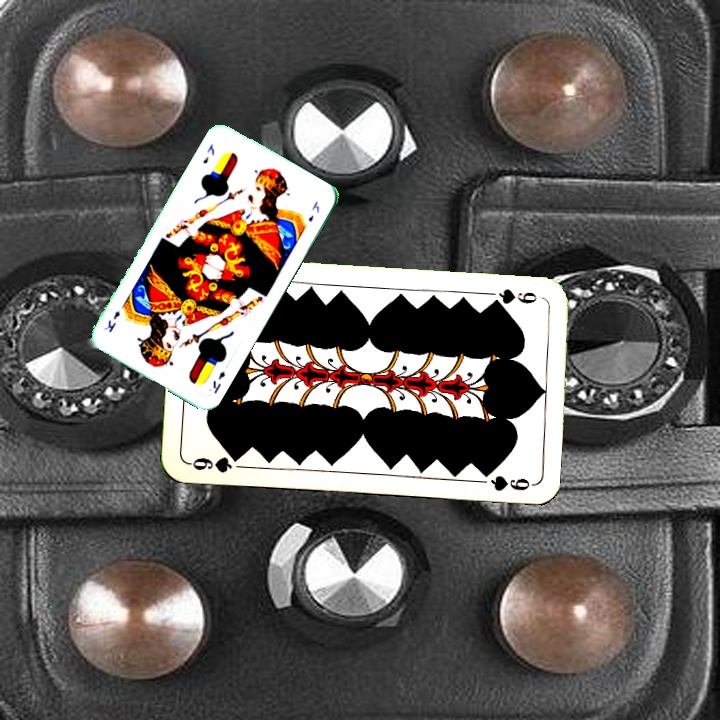EK: (209, 367, 228, 396), (199, 139, 217, 166)
G9: (185, 450, 245, 475), (485, 285, 545, 308)
